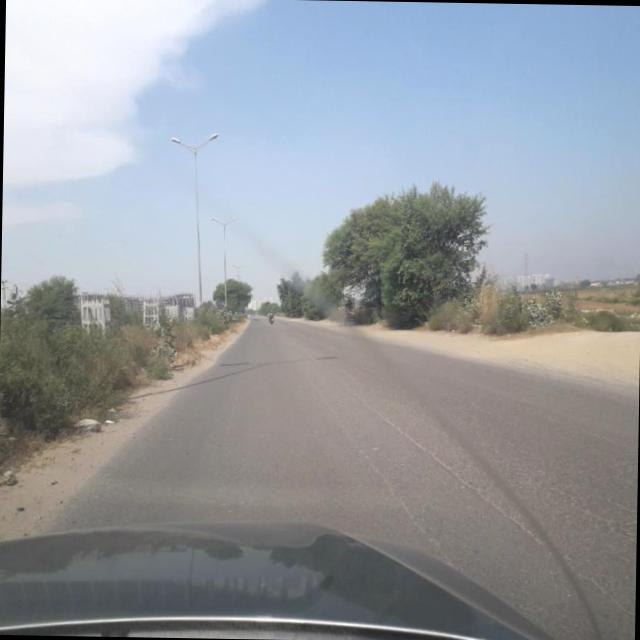crack: (383, 410, 625, 604), (318, 378, 445, 550), (528, 424, 638, 572)
